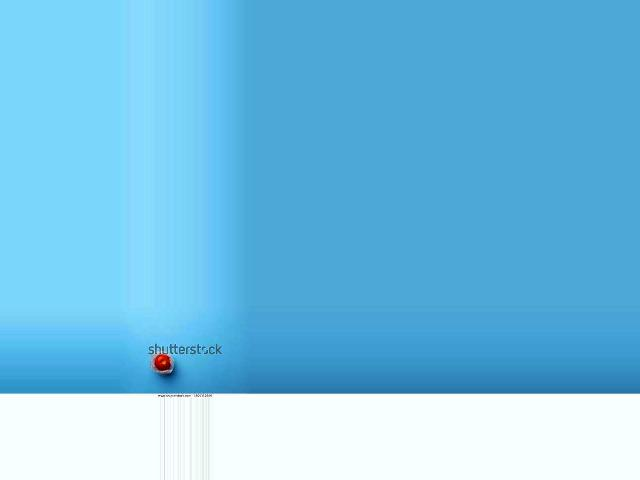tomato: (155, 354, 171, 370)
